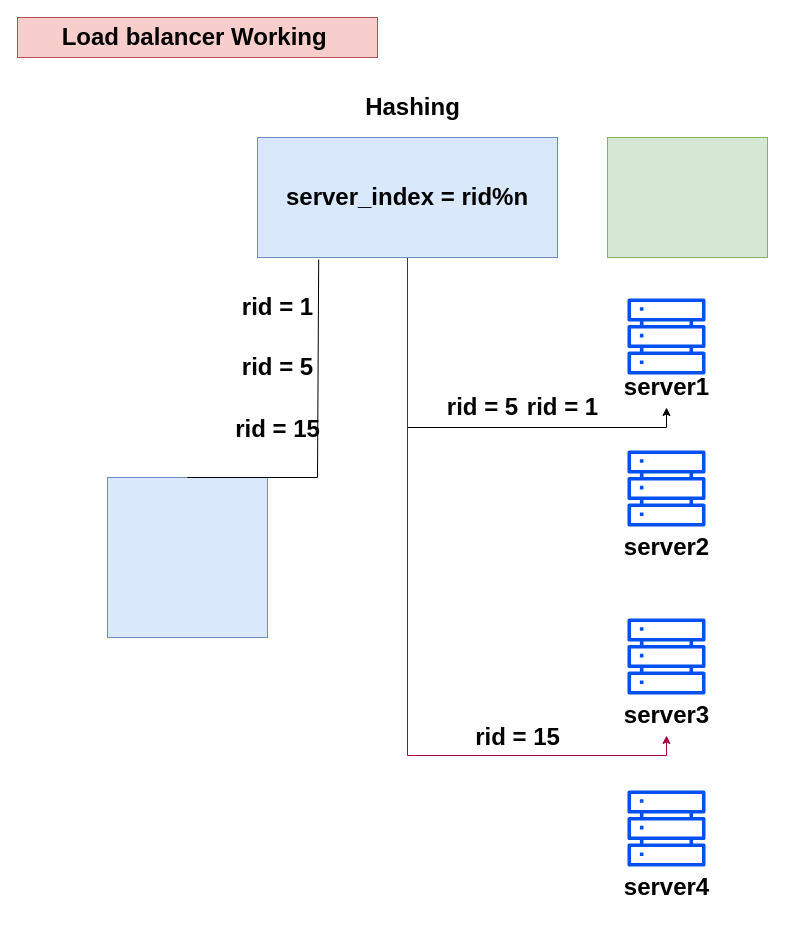
Image size: 785x925. Some labels were removed from this diagram. The centre of each missing label's shape, as x and y in pixels:
Load balancer: (x=187, y=557)
r - request h - hash function n - server: (x=687, y=197)
